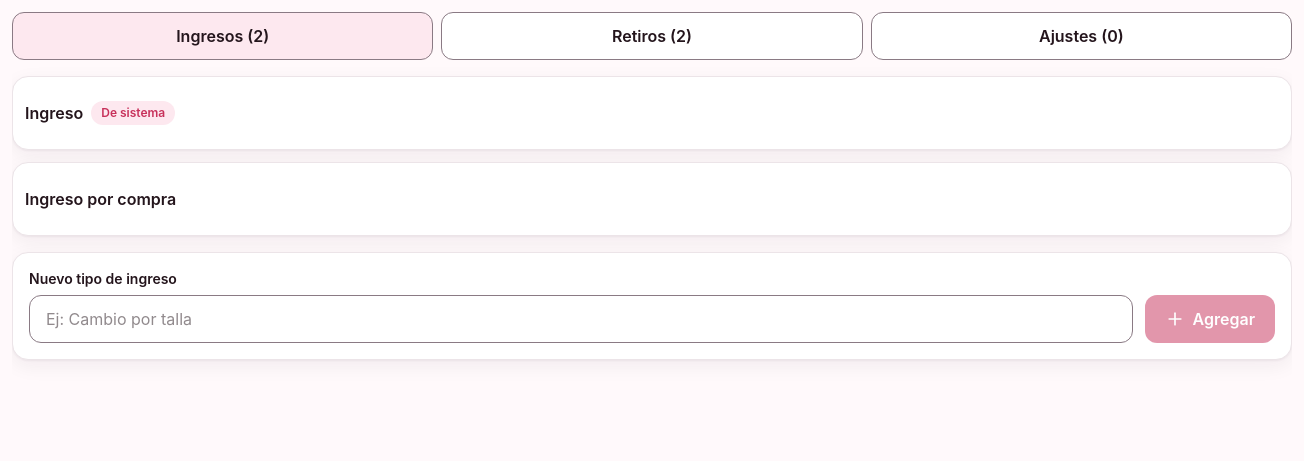
Test: Tipos — un tipo de sistema no se puede desactivar desde el editor
Expected: the text "Ingreso por compra" is shown, [25,187,176,211]
Click the button "Ingreso De sistema" at (54, 113), box [25,89,1279,137]
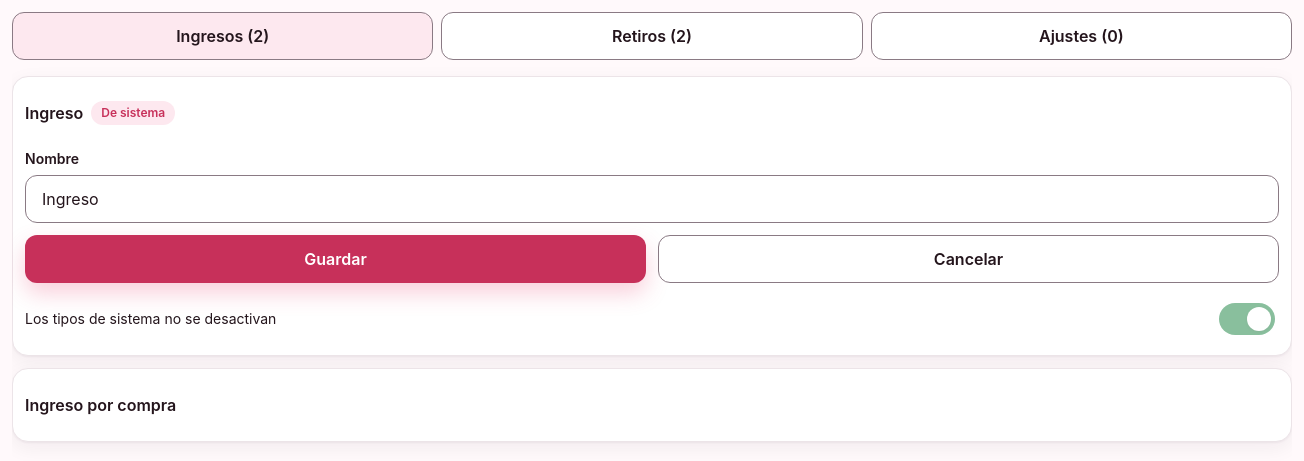
Result: the switch named "Tipo activo" is disabled at [1215,295,1279,343]
